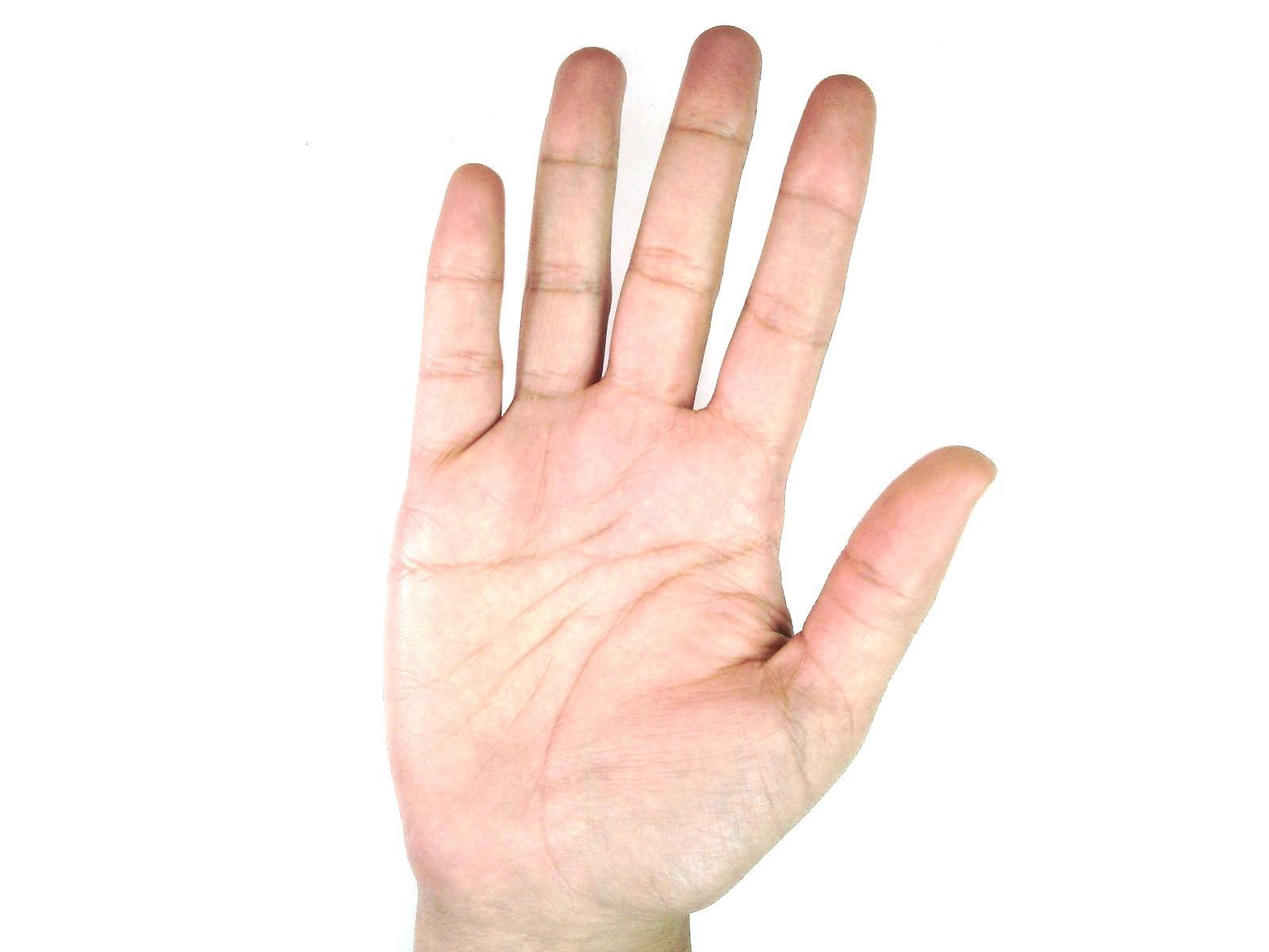open_palm: (378, 24, 1001, 915)
